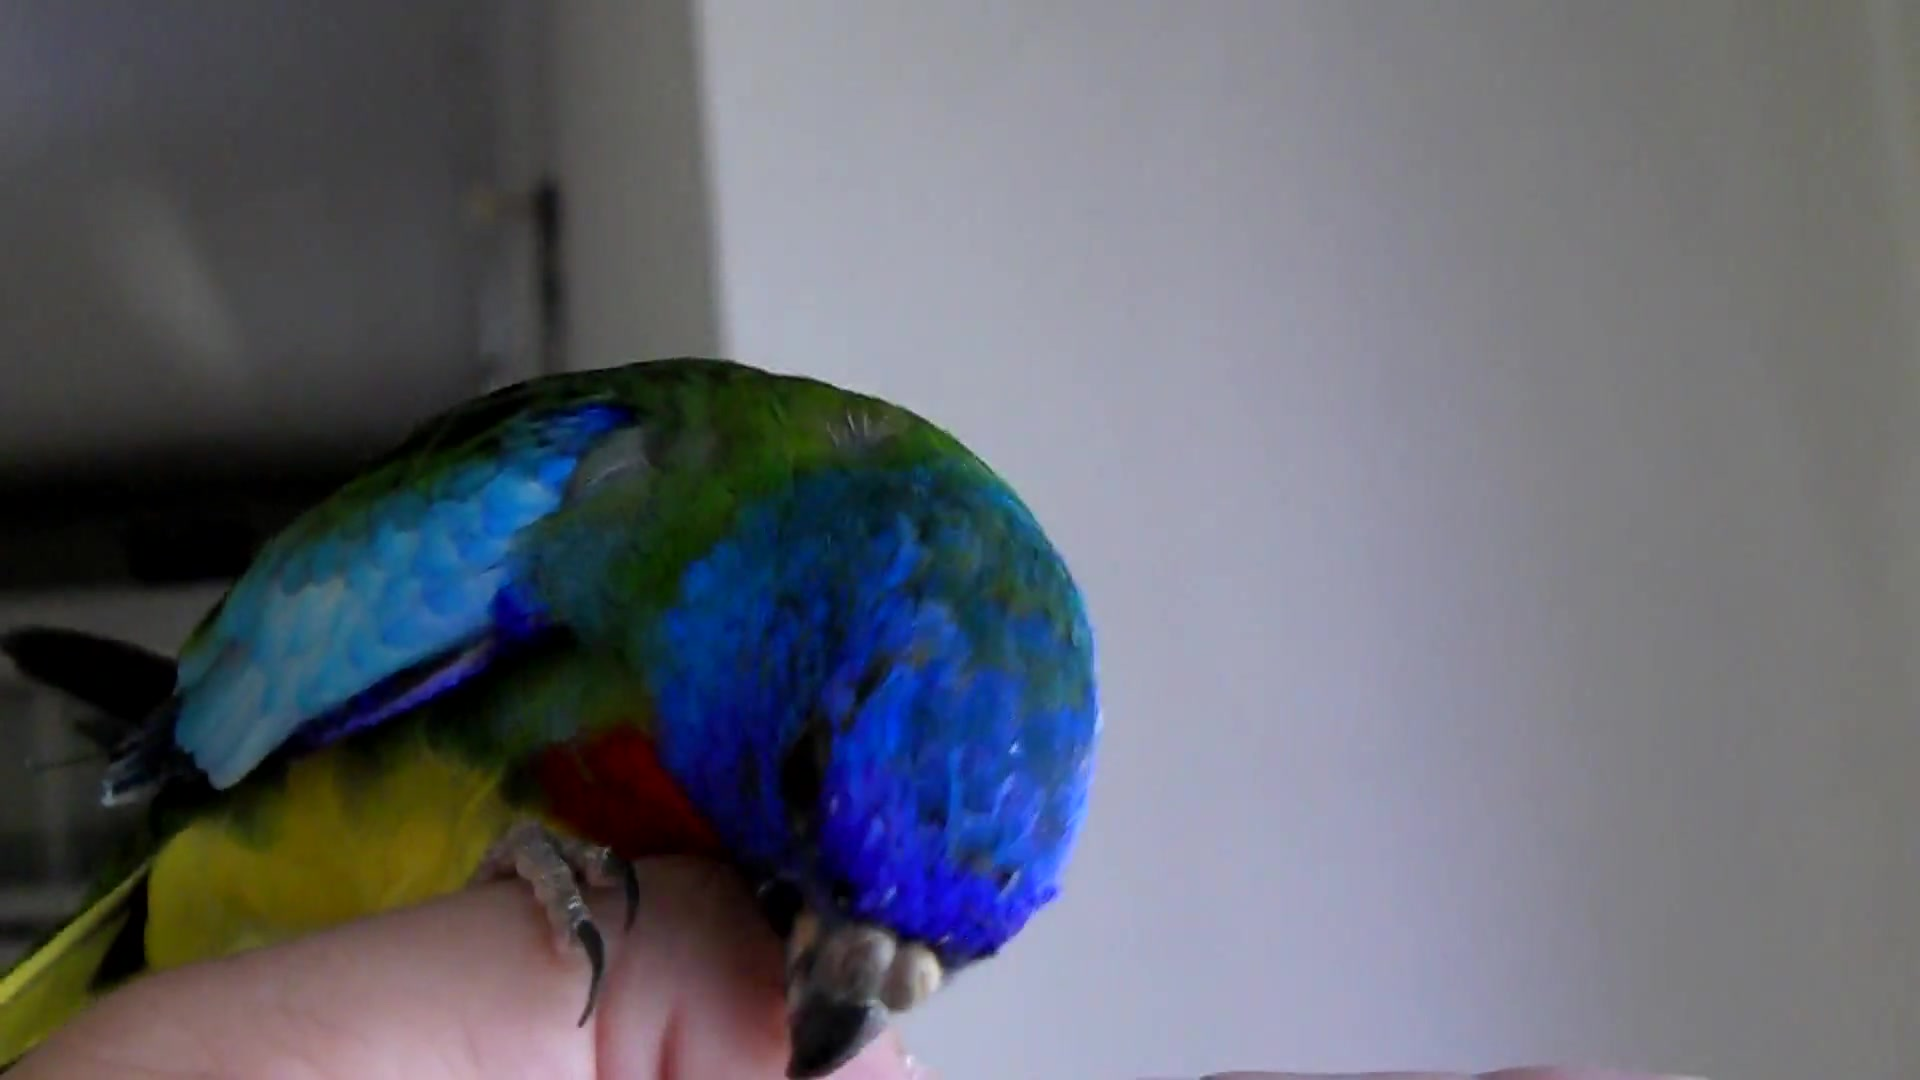bird: (3, 357, 1104, 1077)
